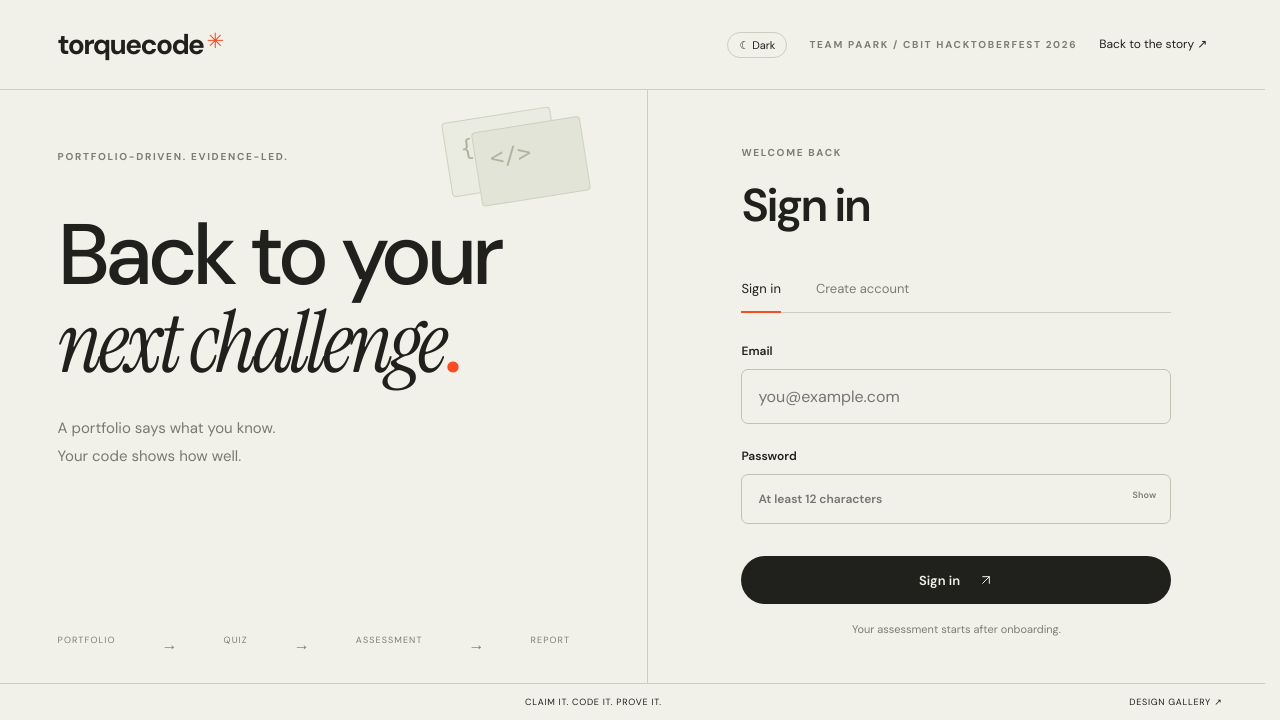
live auth (K2) › maps sign-in failures to clear messages (0)
In the field labelled "Email": [956, 396] box [742,369,1172,424], type "candidate@example.org"
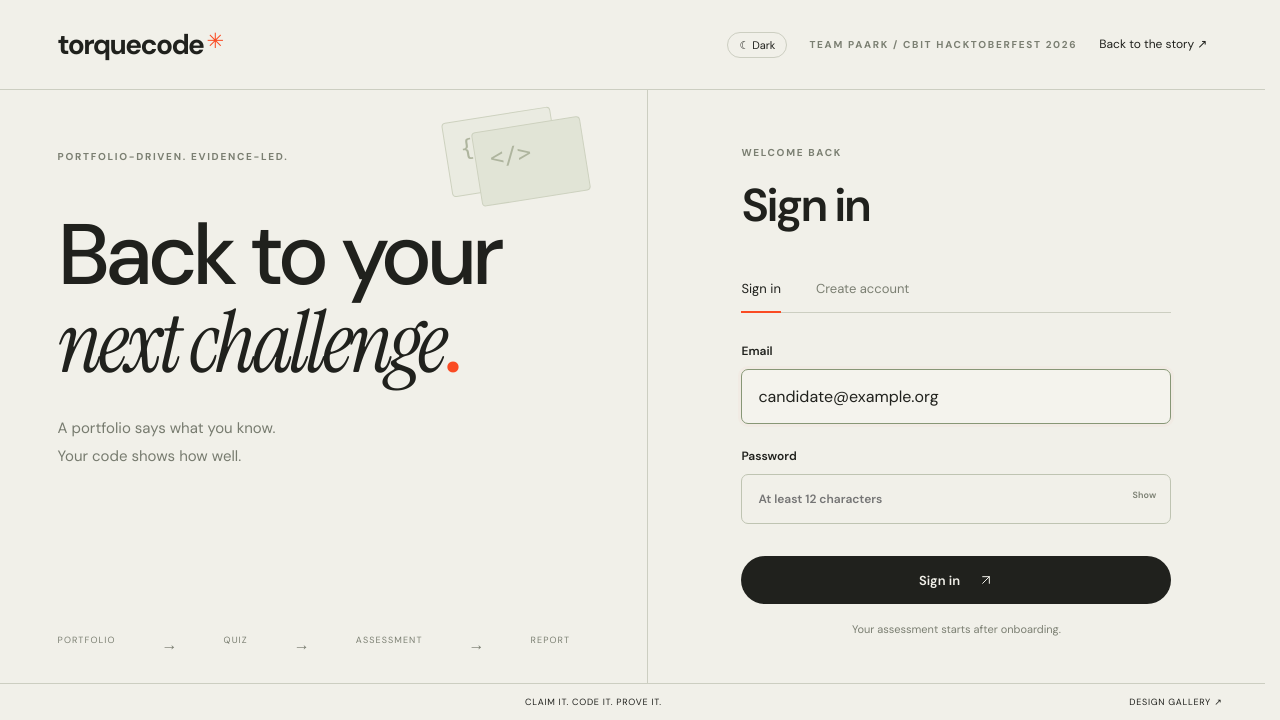
In the password field labelled "Password Show": [956, 499] box [742,474,1172,524], type "correct horse battery"
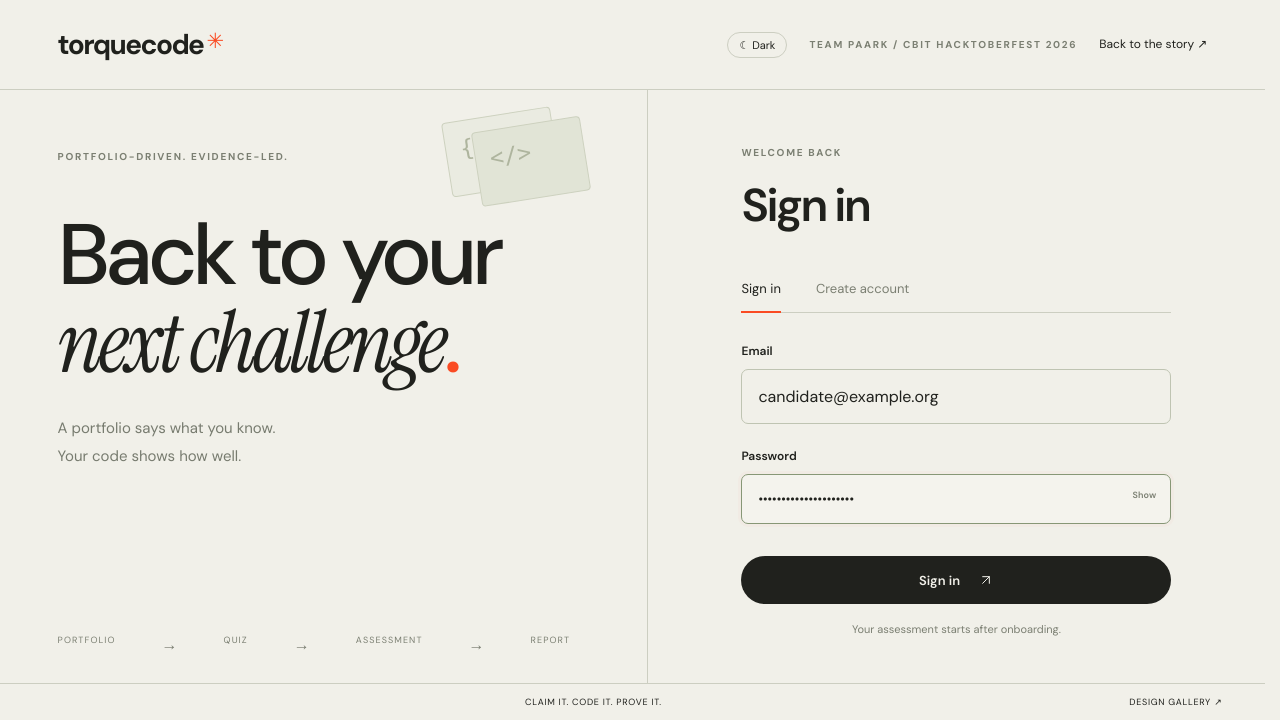
Click the button "Sign in": [956, 580] box [742,556,1172,604]
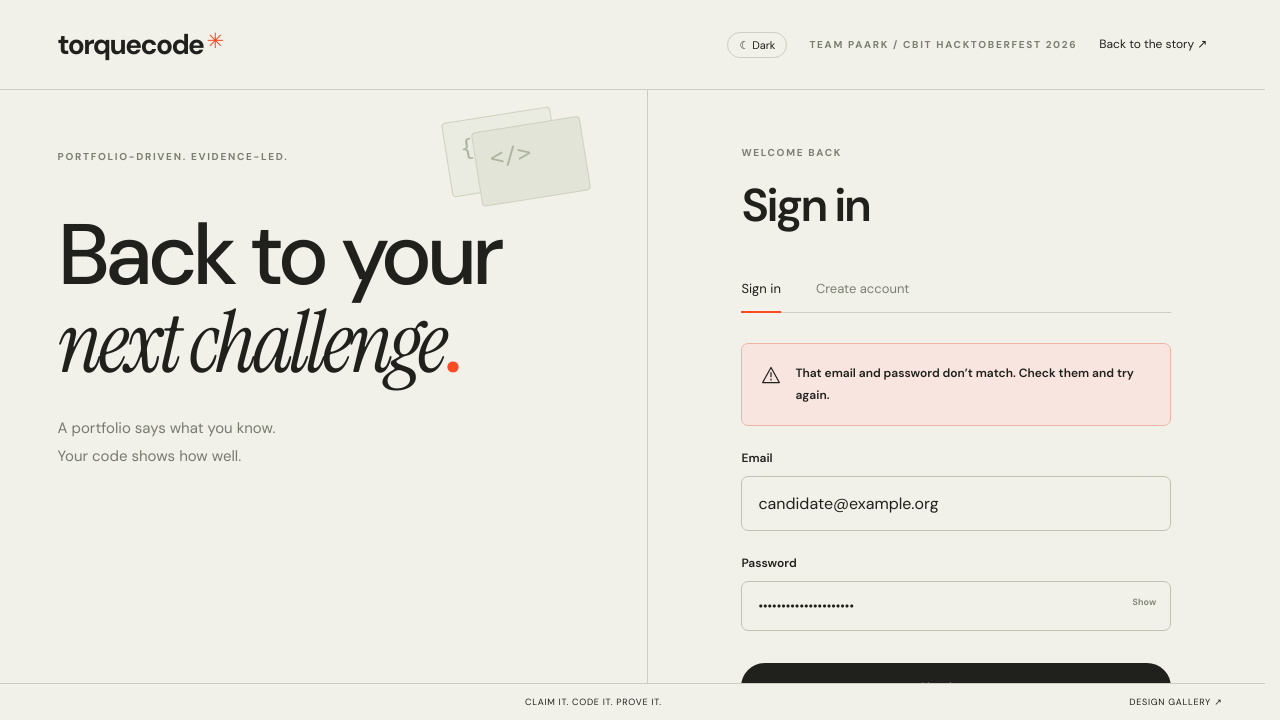
Now the text "email and password don’t match" is shown, box [796,365,1134,403]
